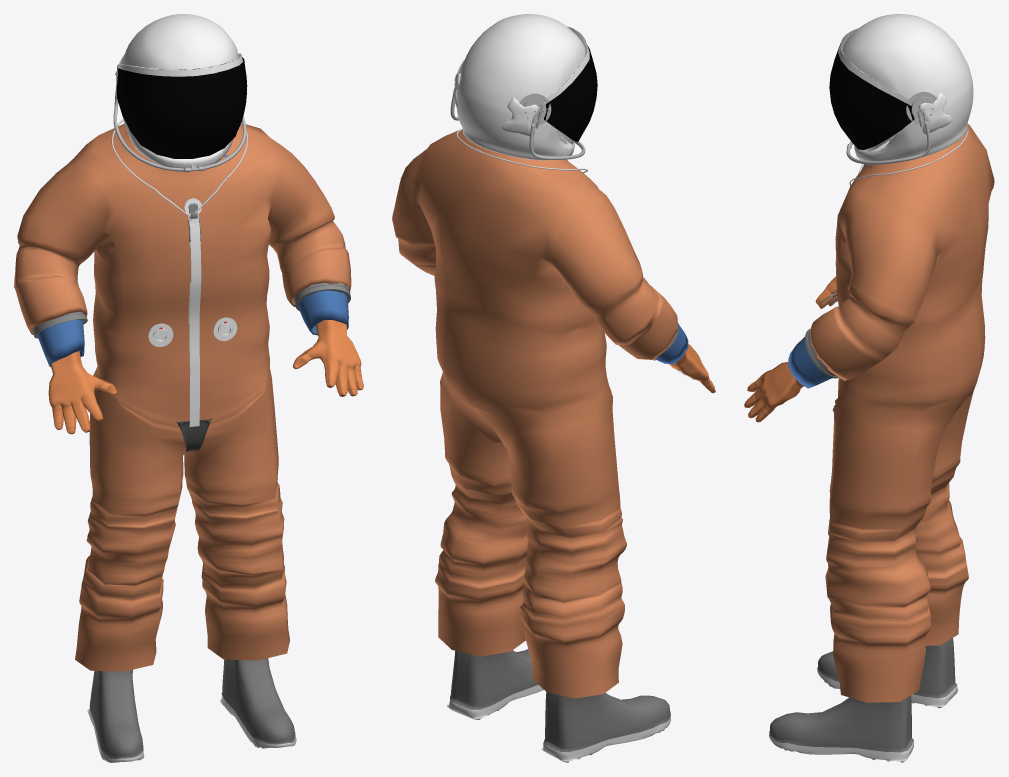
File: space 1.fbx
The picture shows the model from 3 angles, left to right: view 1: azimuth 30°, elevation 25°; view 2: azimuth 150°, elevation 25°; view 3: azimuth 270°, elevation 25°; orthographic projection.
Visible parts, largest first — view 1: Advanced Crew Escape Suit; view 2: Advanced Crew Escape Suit; view 3: Advanced Crew Escape Suit.
Part boxes in pixels (x1,y1,x2,y2): Advanced Crew Escape Suit: (14, 14, 363, 762); Advanced Crew Escape Suit: (392, 14, 715, 762); Advanced Crew Escape Suit: (744, 14, 994, 762).
Size of the model in its own units: 89.07 by 200 by 64.07.
